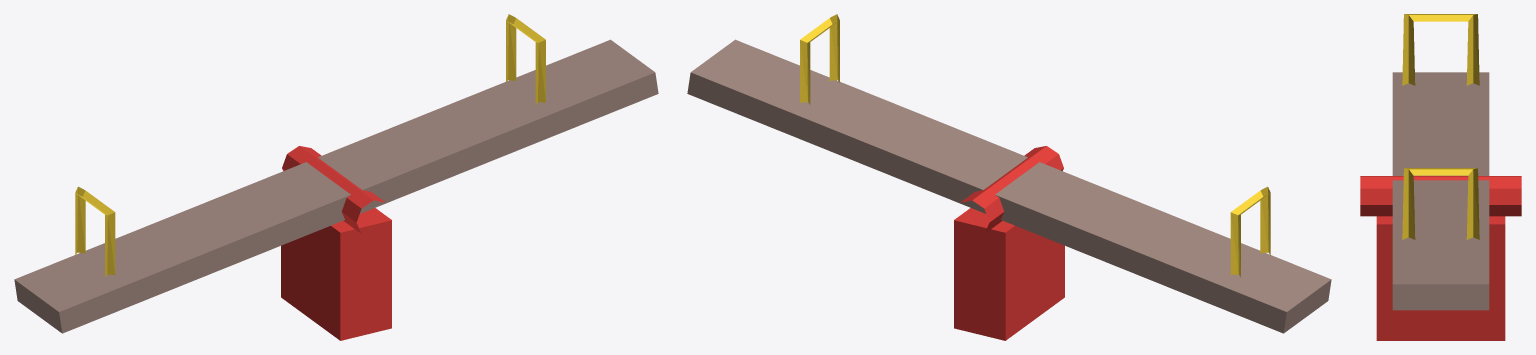
The model's file is gungbrada.glb.
3 renders of one model, left to right at view 1: azimuth 30°, elevation 25°; view 2: azimuth 150°, elevation 25°; view 3: azimuth 270°, elevation 25°, orthographic. The views are drawn at different scales.
Visible parts, largest first — view 1: gungbrada; view 2: gungbrada; view 3: gungbrada.
Part boxes in pixels (x1,y1,x2,y2): gungbrada: (14, 14, 658, 340); gungbrada: (687, 14, 1331, 340); gungbrada: (1360, 14, 1521, 340).
Bounding box in the file's own units: 1.39 × 0.5325 × 0.3.
